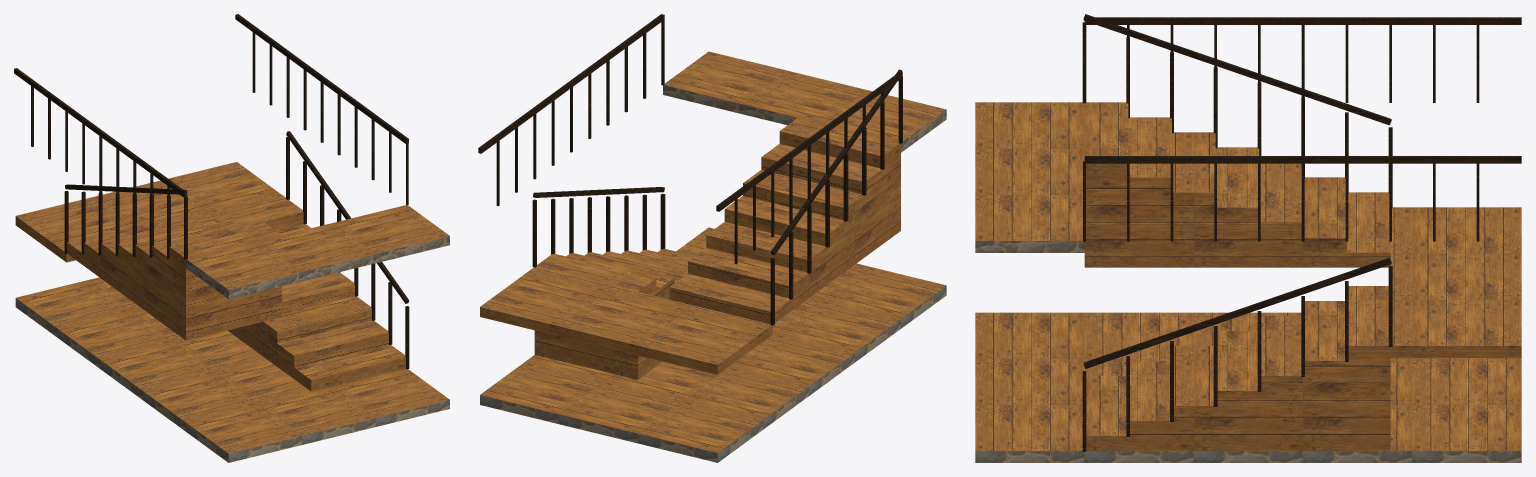
The model's file is standard-u-stair-v1.gltf.
3 renders of one model, left to right at view 1: azimuth 30°, elevation 25°; view 2: azimuth 150°, elevation 25°; view 3: azimuth 270°, elevation 25°, orthographic. The views are drawn at different scales.
Parts seen in each view (by area): view 1: stairs-L0-wood, floor-L0-wood, floor-L1-wood, interior-trim-L1-iron, stairs-L0-iron, floor-L0-stone, floor-L1-stone; view 2: stairs-L0-wood, floor-L0-wood, floor-L1-wood, interior-trim-L1-iron, stairs-L0-iron, floor-L0-stone, floor-L1-stone; view 3: stairs-L0-wood, floor-L0-wood, floor-L1-wood, interior-trim-L1-iron, stairs-L0-iron, floor-L0-stone, floor-L1-stone.
Boxes of the visible parts, <box> form: stairs-L0-wood: <box>15,162,405,391</box>; floor-L0-wood: <box>16,277,449,453</box>; floor-L1-wood: <box>187,205,449,289</box>; interior-trim-L1-iron: <box>14,14,408,205</box>; stairs-L0-iron: <box>64,131,409,369</box>; floor-L0-stone: <box>15,298,449,462</box>; floor-L1-stone: <box>186,236,449,299</box>; stairs-L0-wood: <box>480,118,900,379</box>; floor-L0-wood: <box>480,227,946,452</box>; floor-L1-wood: <box>664,51,946,142</box>; interior-trim-L1-iron: <box>478,14,902,264</box>; stairs-L0-iron: <box>532,69,902,325</box>; floor-L0-stone: <box>480,286,946,462</box>; floor-L1-stone: <box>663,85,946,152</box>; stairs-L0-wood: <box>1084,102,1521,450</box>; floor-L0-wood: <box>975,312,1521,450</box>; floor-L1-wood: <box>975,102,1084,240</box>; interior-trim-L1-iron: <box>1083,17,1521,241</box>; stairs-L0-iron: <box>1082,14,1392,451</box>; floor-L0-stone: <box>975,451,1521,462</box>; floor-L1-stone: <box>975,241,1084,252</box>.
Bounding box in the file's own units: 3.04 × 3.12 × 5.
Materials: 4 (4 with a texture image).
